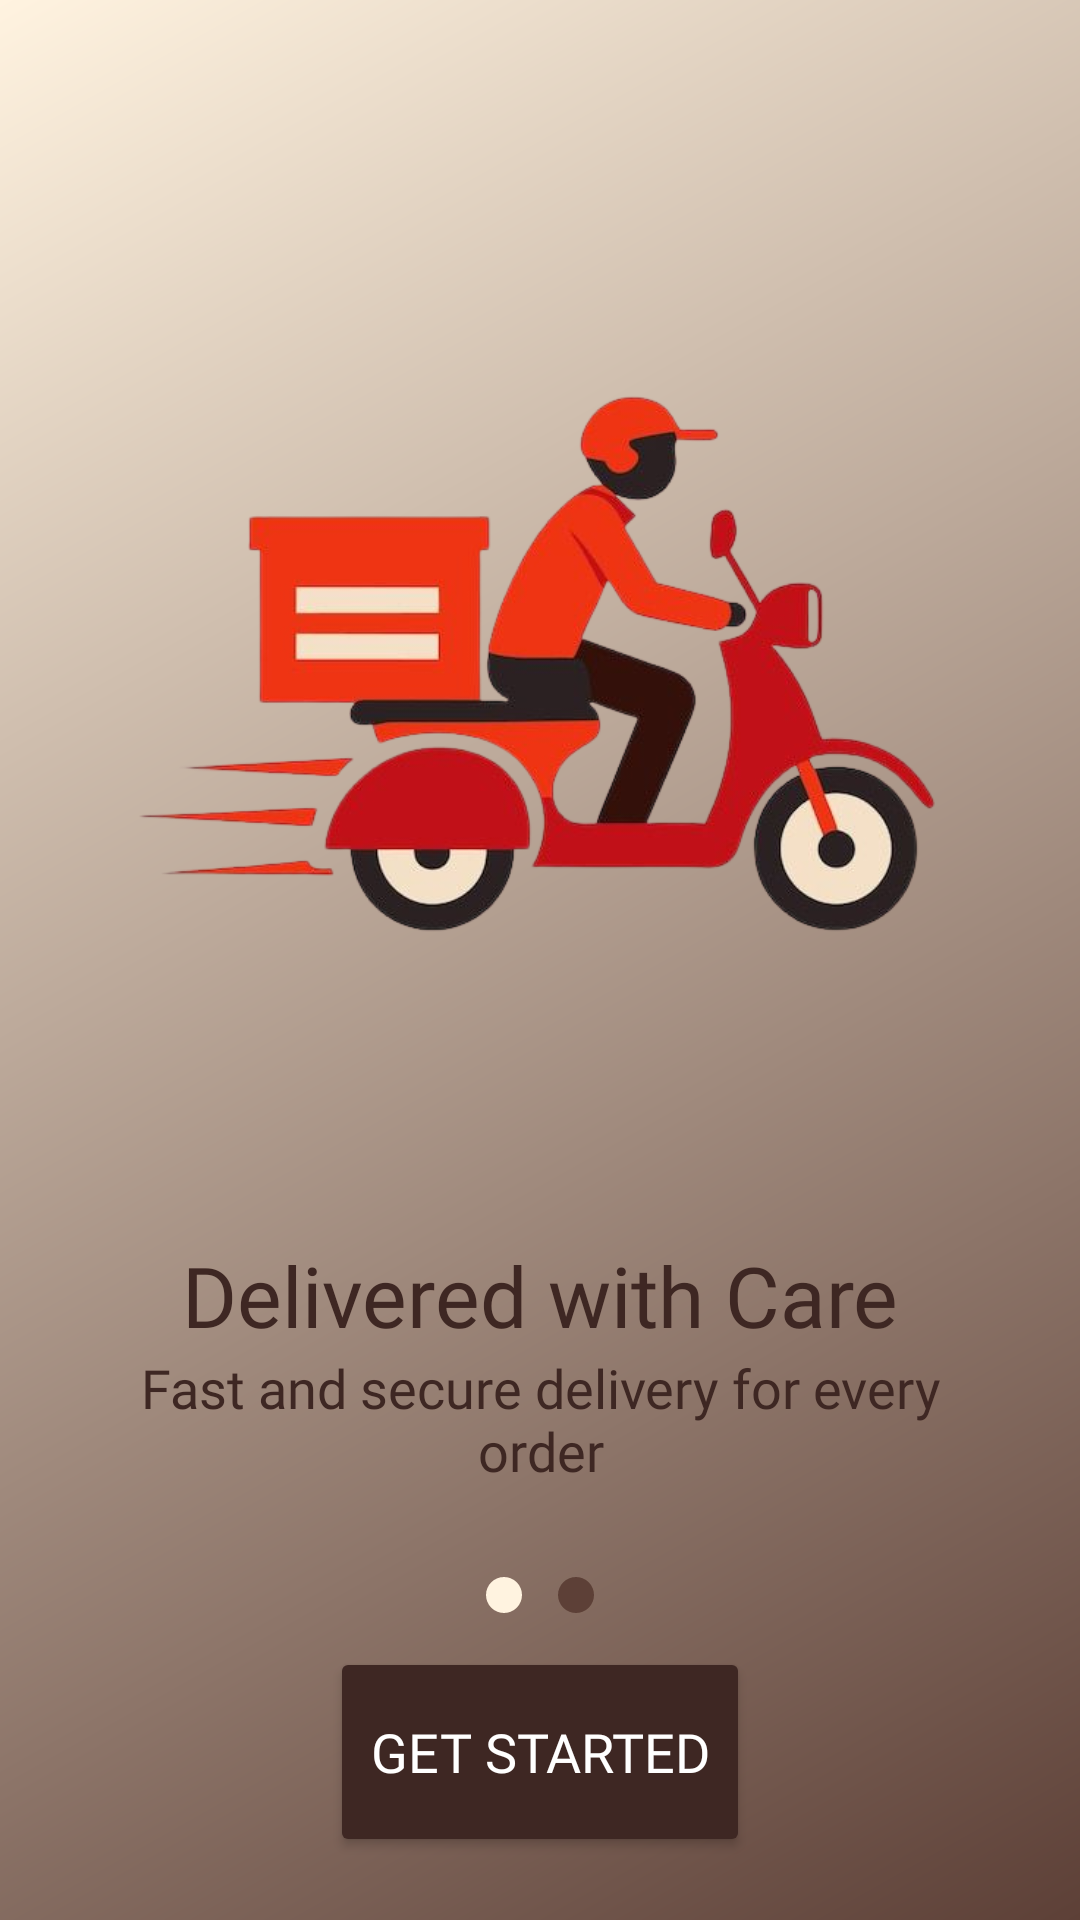

Icons on this 1080px×1920px Android screen, each with its box as box=[x1, y1, x2, y2]:
dot: box=[486, 1577, 522, 1613]
